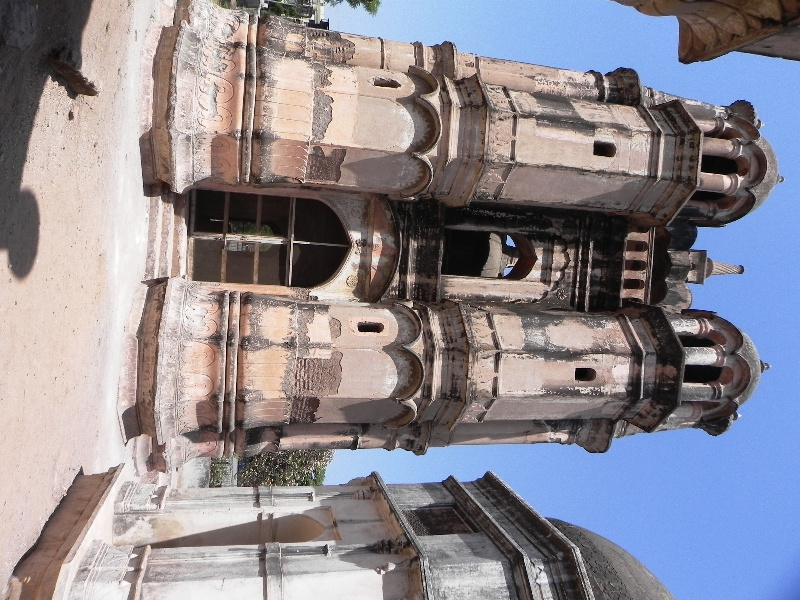Exposed Bricks: (293, 359, 314, 392)
Spalling: (305, 142, 346, 181), (311, 88, 337, 142), (296, 300, 312, 353), (312, 64, 331, 87), (329, 315, 345, 341)
